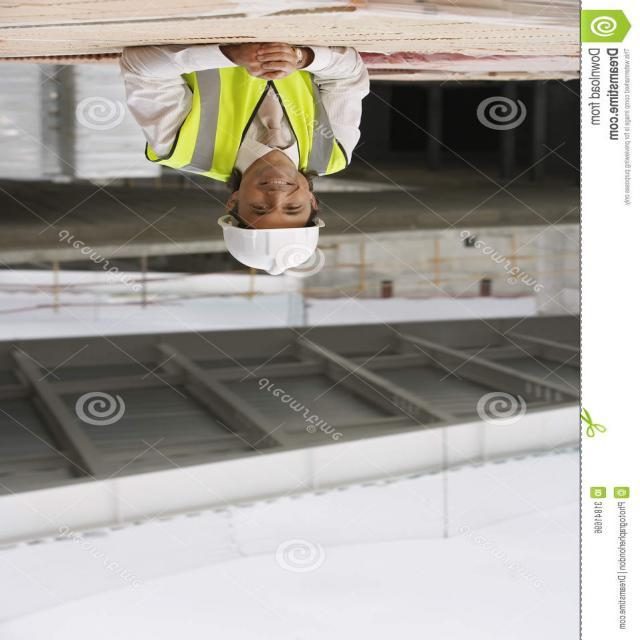safetyhelmet: (218, 146, 330, 278)
